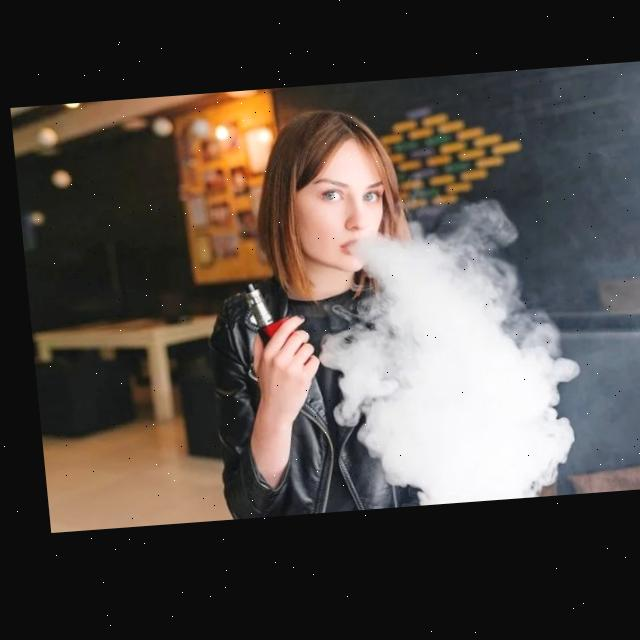vape: (239, 284, 289, 348)
